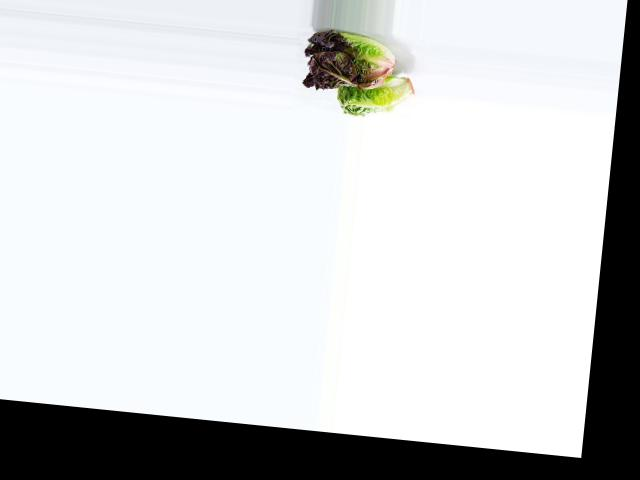lettuce: (333, 67, 419, 122)
